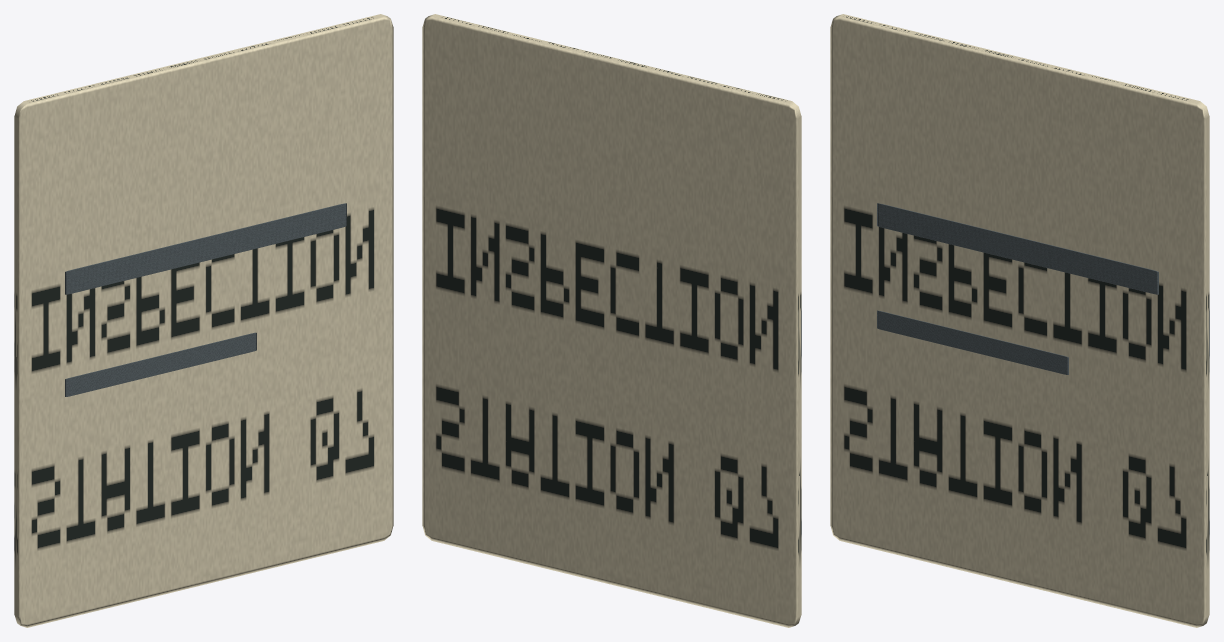
File: inspection.glb
The picture shows the model from 3 angles, left to right: view 1: azimuth 30°, elevation 25°; view 2: azimuth 150°, elevation 25°; view 3: azimuth 330°, elevation 25°; orthographic projection.
Parts seen in each view (by area): view 1: board, stripe, line; view 2: board; view 3: board, stripe, line.
Boxes of the visible parts, box(x1,y1,x2,y2) form: board: box(14, 14, 393, 627); stripe: box(65, 203, 346, 294); line: box(65, 332, 256, 396); board: box(422, 14, 801, 627); board: box(830, 14, 1209, 627); stripe: box(877, 203, 1158, 294); line: box(877, 310, 1068, 374).
Size of the model in its own units: 0.075 by 0.1 by 0.00136.
Materials: 2 (2 with a texture image).
